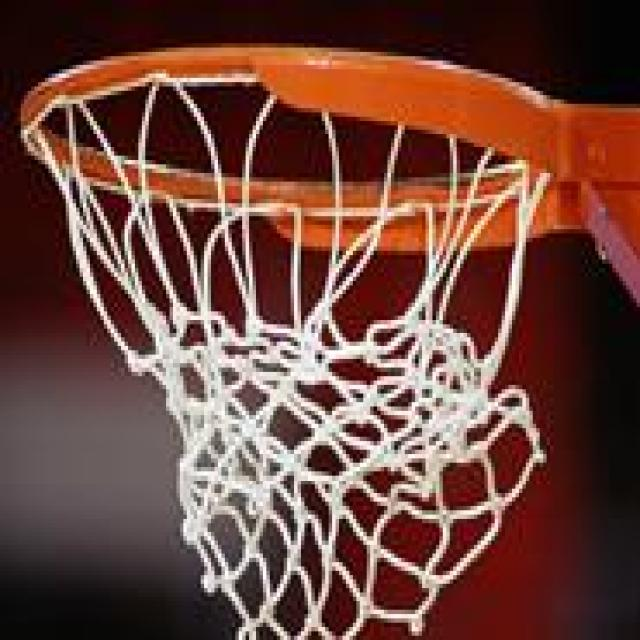hoop: (6, 29, 639, 640)
